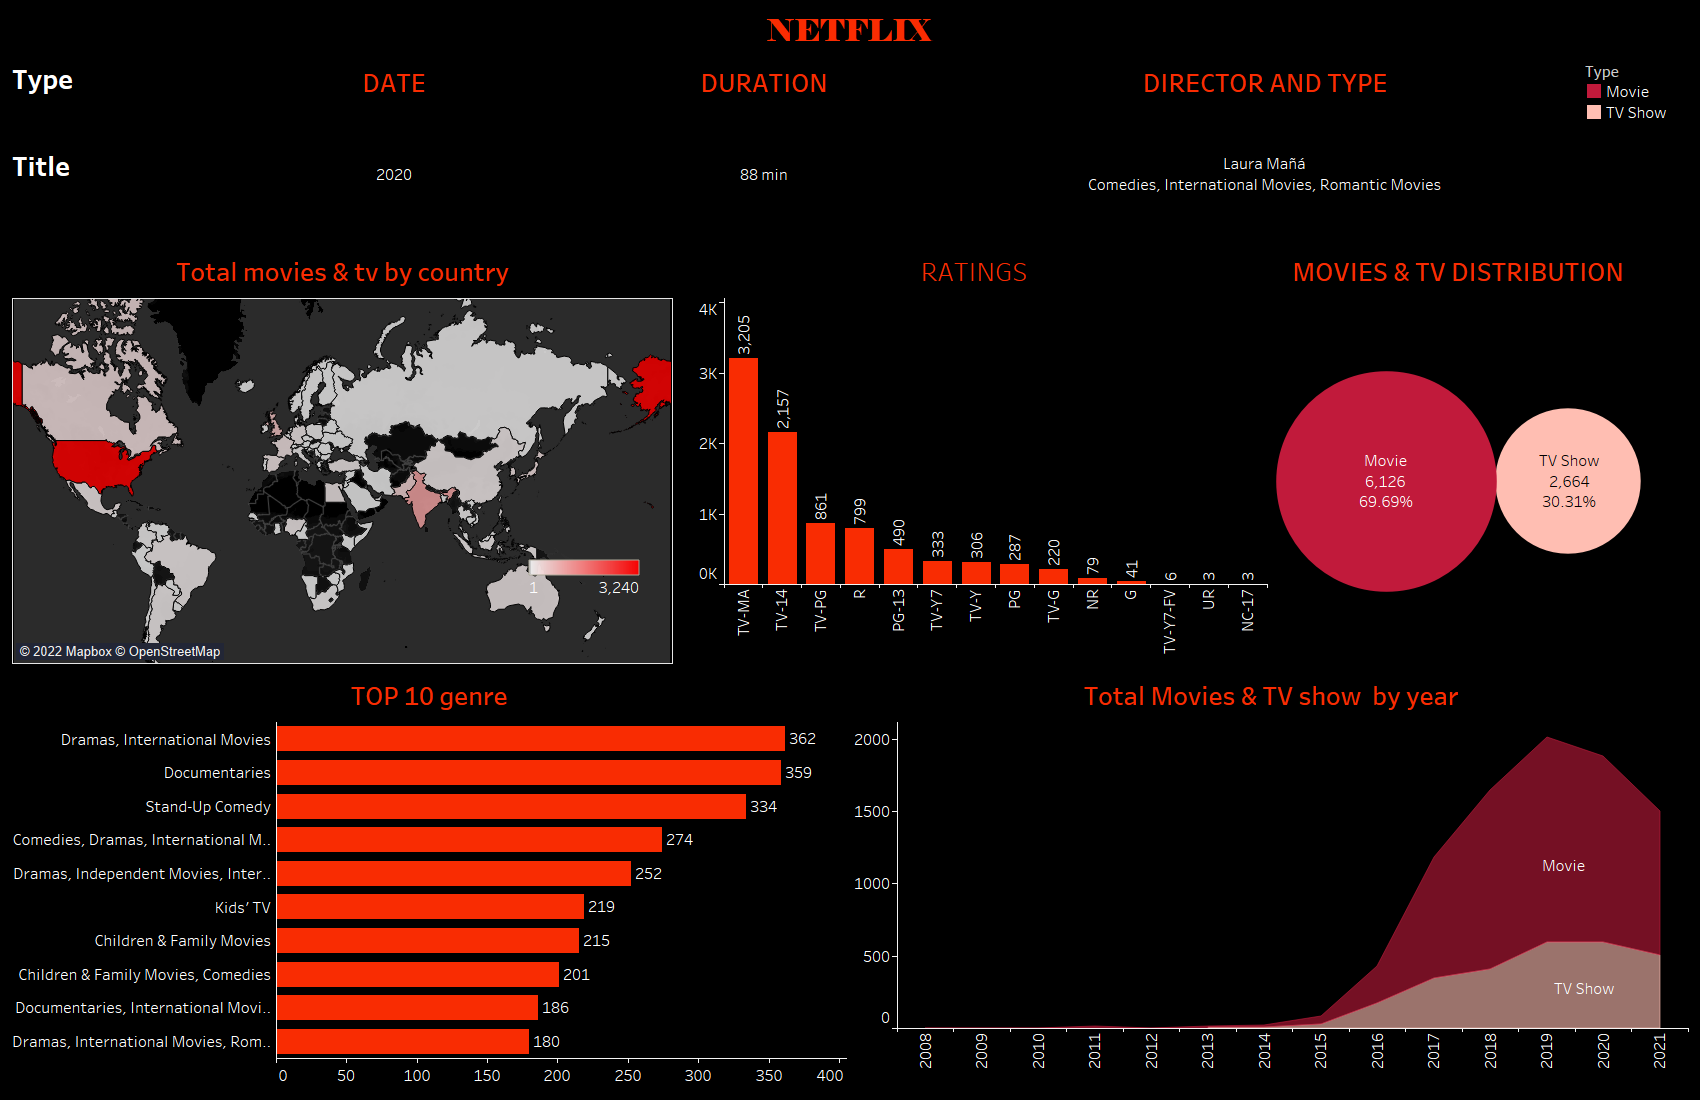

The dashboard page shown, as its layout file describes it:
{"tool":"tableau","page":{"name":"NETFLIX","canvas":[1700,1100],"ordinal":0},"visuals":[{"type":"title","box":[8,8,1684,47]},{"type":"filter","title":"DISCRIPTION","param":"[federated.099nczt0ccs72e1bkzhub199simi].[none:type:nk]","box":[8,55,201.2,86.8]},{"type":"worksheet","title":"DATE","mark":"Automatic","box":[209.2,55,370.2,189.4]},{"type":"worksheet","title":"DURATION","mark":"Automatic","box":[579.4,55,370.2,189.4]},{"type":"worksheet","title":"DISCRIPTION","mark":"Automatic","box":[949.6,55,630.3,189.4]},{"type":"legend","title":"MOVIES & TV DISTRIBUTION ","param":"[federated.099nczt0ccs72e1bkzhub199simi].[none:type:nk]","box":[1579.9,55,112.1,189.4]},{"type":"filter","title":"DISCRIPTION","param":"[federated.099nczt0ccs72e1bkzhub199simi].[none:title:nk]","box":[8,141.8,201.2,102.6]},{"type":"worksheet","title":"Total movie & tv by country ","mark":"Multipolygon","box":[8,244.4,669.3,423.8]},{"type":"worksheet","title":"RATINGS","mark":"Automatic","rows":["show_id"],"cols":["rating"],"box":[677.3,244.4,593.6,423.8]},{"type":"worksheet","title":"MOVIES & TV DISTRIBUTION ","mark":"Circle","box":[1270.9,244.4,421.1,423.8]},{"type":"legend","title":"Total movie & tv by country ","param":"[federated.099nczt0ccs72e1bkzhub199simi].[ctd:show_id:qk]","box":[525,556.1,119,51.3]},{"type":"worksheet","title":"Top 10 genre","mark":"Automatic","rows":["listed_in"],"cols":["show_id"],"box":[8,668.2,842,423.9]},{"type":"worksheet","title":"total movies & tv show by year","mark":"Area","rows":["show_id"],"cols":["date_added"],"box":[850,668.2,842,423.9]}]}

Visuals, with their boxes in screenshot pixels (x1, y1, x2, y2), scaled from the page's 1700x1100 canvas onto the 1700x1100 screenshot:
title: {"x1": 8, "y1": 8, "x2": 1692, "y2": 55}
"DISCRIPTION" filter: {"x1": 8, "y1": 55, "x2": 209, "y2": 142}
"DATE" worksheet: {"x1": 209, "y1": 55, "x2": 579, "y2": 244}
"DURATION" worksheet: {"x1": 579, "y1": 55, "x2": 950, "y2": 244}
"DISCRIPTION" worksheet: {"x1": 950, "y1": 55, "x2": 1580, "y2": 244}
"MOVIES & TV DISTRIBUTION " legend: {"x1": 1580, "y1": 55, "x2": 1692, "y2": 244}
"DISCRIPTION" filter: {"x1": 8, "y1": 142, "x2": 209, "y2": 244}
"Total movie & tv by country " worksheet (Multipolygon marks): {"x1": 8, "y1": 244, "x2": 677, "y2": 668}
"RATINGS" worksheet: {"x1": 677, "y1": 244, "x2": 1271, "y2": 668}
"MOVIES & TV DISTRIBUTION " worksheet (Circle marks): {"x1": 1271, "y1": 244, "x2": 1692, "y2": 668}
"Total movie & tv by country " legend: {"x1": 525, "y1": 556, "x2": 644, "y2": 607}
"Top 10 genre" worksheet: {"x1": 8, "y1": 668, "x2": 850, "y2": 1092}
"total movies & tv show by year" worksheet (Area marks): {"x1": 850, "y1": 668, "x2": 1692, "y2": 1092}
